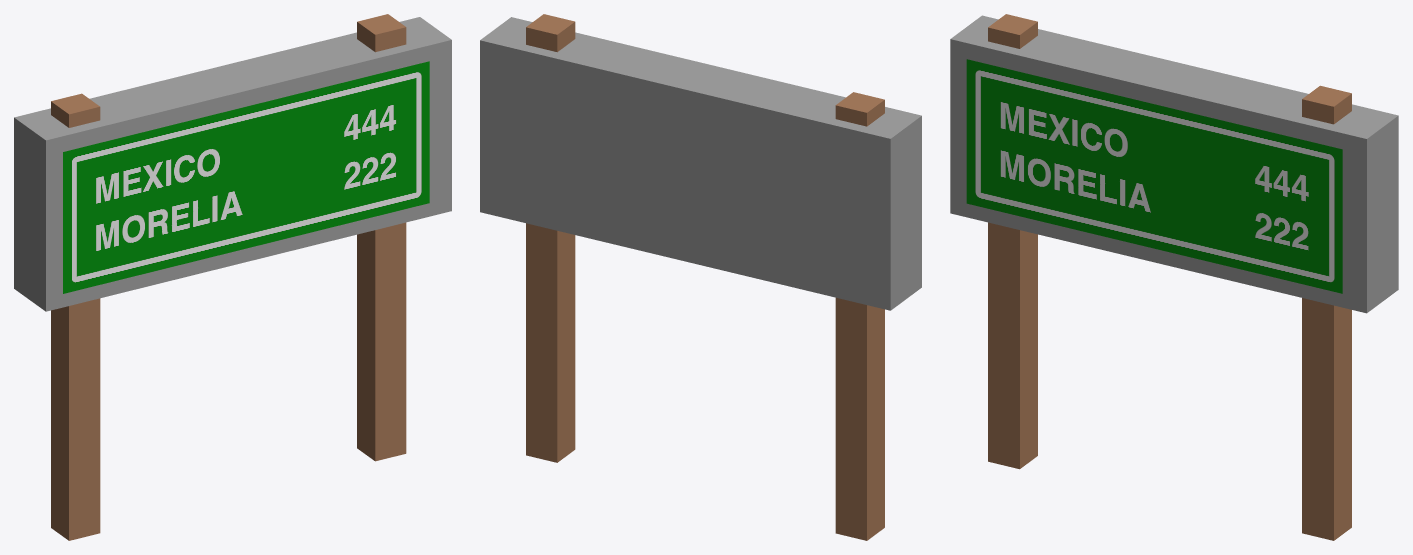
File: letrero2.gltf
3 views of the same model, side by side, from view 1: azimuth 30°, elevation 25°; view 2: azimuth 150°, elevation 25°; view 3: azimuth 330°, elevation 25° (orthographic).
Visible parts, largest first — view 1: Plane.023, Cube.014, Cube.013, Cube.012; view 2: Cube.014, Cube.013, Cube.012; view 3: Plane.023, Cube.014, Cube.012, Cube.013.
Part boxes in pixels (<box>): Plane.023: <box>63,61,429,293</box>; Cube.014: <box>14,17,451,311</box>; Cube.013: <box>51,93,100,540</box>; Cube.012: <box>357,14,406,461</box>; Cube.014: <box>480,17,921,310</box>; Cube.013: <box>835,92,884,540</box>; Cube.012: <box>526,14,575,462</box>; Plane.023: <box>966,59,1342,293</box>; Cube.014: <box>950,15,1398,313</box>; Cube.012: <box>1302,85,1351,540</box>; Cube.013: <box>988,14,1037,469</box>.
Bounding box in the file's own units: 2.71 × 2.74 × 0.3884.
3 materials, 1 textured.
